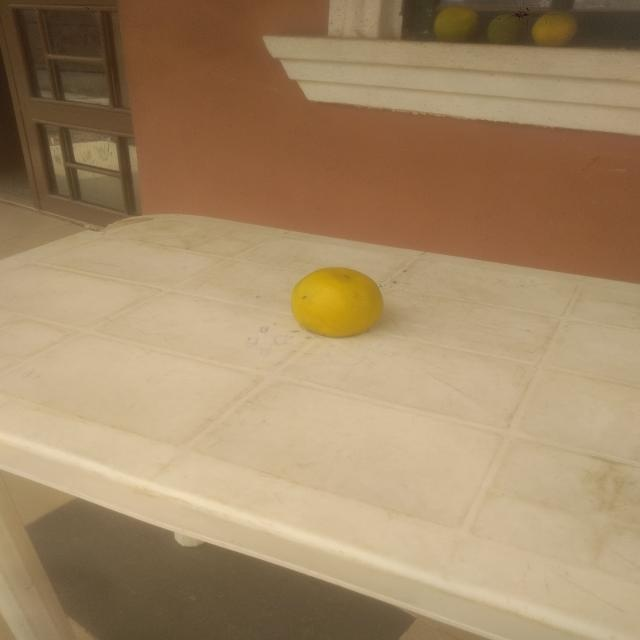agrume: (287, 255, 404, 351)
